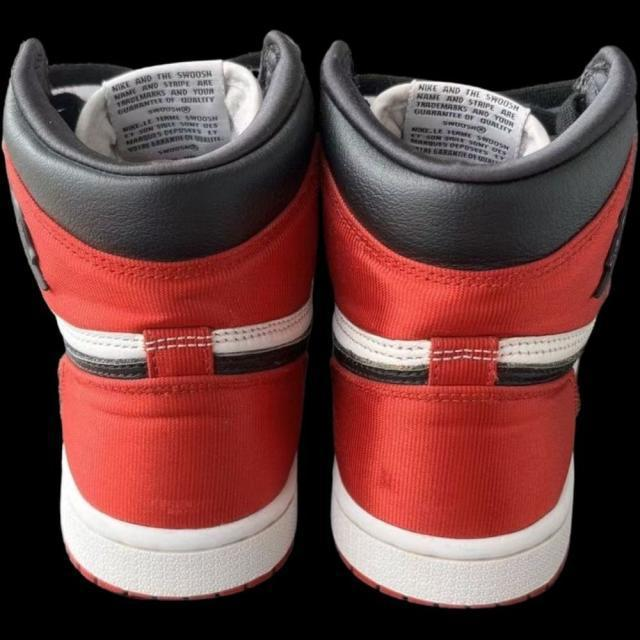nike original jordan 1: (318, 35, 640, 610), (0, 34, 324, 601)
